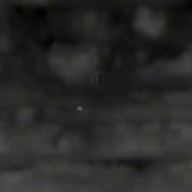Target: (77, 106, 83, 112)
